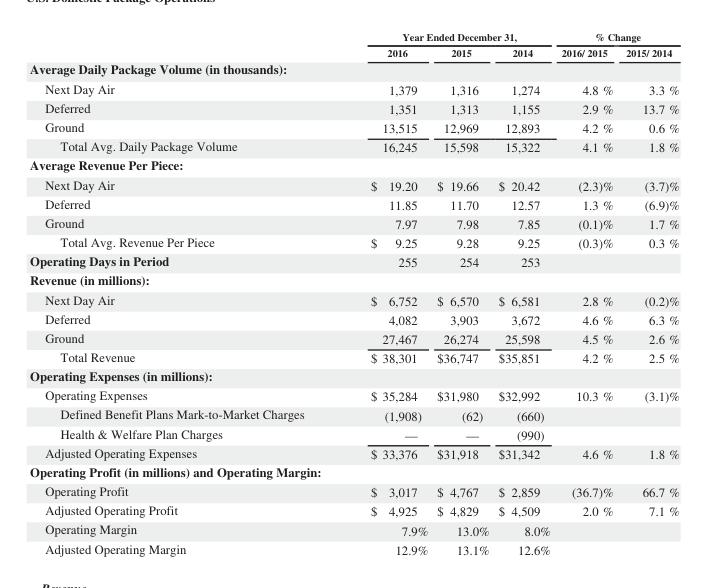table: (28, 28, 678, 557)
table column: (28, 28, 336, 557), (336, 28, 431, 557), (555, 28, 618, 557), (431, 28, 493, 557), (493, 28, 555, 557), (618, 28, 678, 557)
table column header: (28, 28, 678, 59)
table projected row header: (28, 59, 678, 78), (28, 155, 678, 174), (28, 270, 678, 289), (28, 366, 678, 385), (28, 461, 678, 480)
table row: (28, 78, 678, 98), (28, 212, 678, 232), (28, 327, 678, 347), (28, 480, 678, 500), (28, 59, 678, 78), (28, 98, 678, 117), (28, 117, 678, 136), (28, 136, 678, 155), (28, 155, 678, 174), (28, 174, 678, 193), (28, 193, 678, 212), (28, 232, 678, 251), (28, 251, 678, 270), (28, 270, 678, 289), (28, 289, 678, 308), (28, 308, 678, 327), (28, 347, 678, 366), (28, 366, 678, 385), (28, 385, 678, 404), (28, 404, 678, 423), (28, 423, 678, 442), (28, 442, 678, 461), (28, 461, 678, 480), (28, 500, 678, 519), (28, 519, 678, 538), (28, 538, 678, 557), (28, 28, 678, 44), (28, 44, 678, 59)
table spanning cell: (336, 28, 555, 44), (555, 28, 678, 44)
